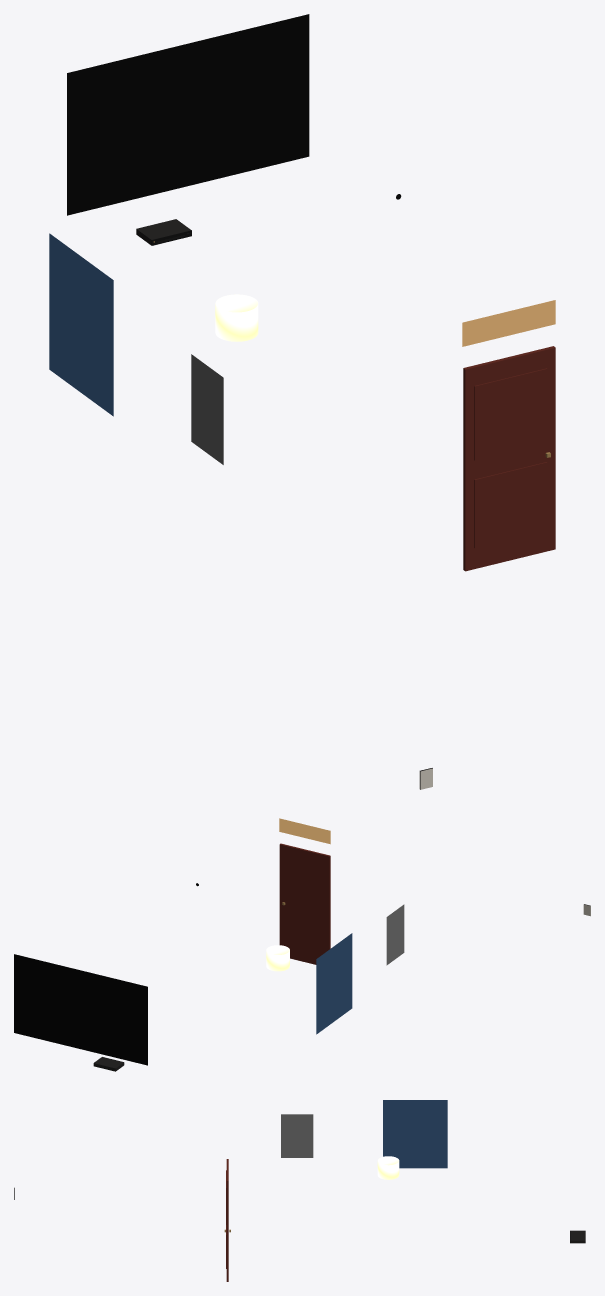
File: props.glb
3 views of the same model, one above another, from view 1: azimuth 30°, elevation 25°; view 2: azimuth 150°, elevation 25°; view 3: azimuth 270°, elevation 25° (orthographic). The views are drawn at different scales.
Parts seen in each view (by area): view 1: screen_surface, door_leaf, window_glass, wall_poster, marquee_sign, lamp_shade; view 2: screen_surface, door_leaf, window_glass, wall_poster, marquee_sign, lamp_shade; view 3: window_glass, wall_poster, lamp_shade, door_leaf.
Part boxes in pixels (x1,y1,x2,y2): screen_surface: (67,14,309,215); door_leaf: (463,346,555,571); window_glass: (49,233,113,416); wall_poster: (191,354,223,464); marquee_sign: (462,300,555,346); lamp_shade: (215,294,258,341); screen_surface: (14,954,147,1065); door_leaf: (279,843,330,964); window_glass: (316,933,352,1034); wall_poster: (386,904,404,965); marquee_sign: (279,818,330,844); lamp_shade: (266,945,289,971); window_glass: (383,1100,447,1168); wall_poster: (281,1114,313,1157); lamp_shade: (377,1156,399,1179); door_leaf: (226,1159,228,1281).
Size of the model in its own units: 5 by 2.55 by 10.73.
